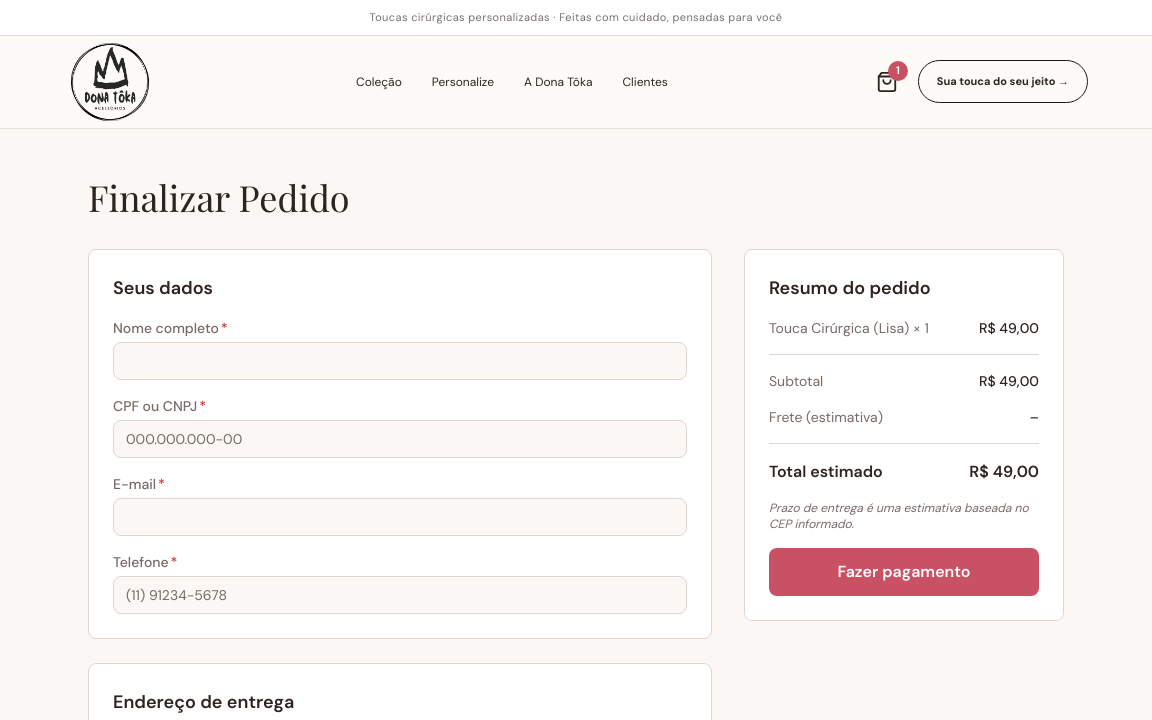
checkout form — validation › shows field errors when form is submitted empty
Expected: the heading "Finalizar Pedido" is shown, [88,172,350,220]
Click the button "Fazer pagamento": (904, 572) [769,548,1039,596]
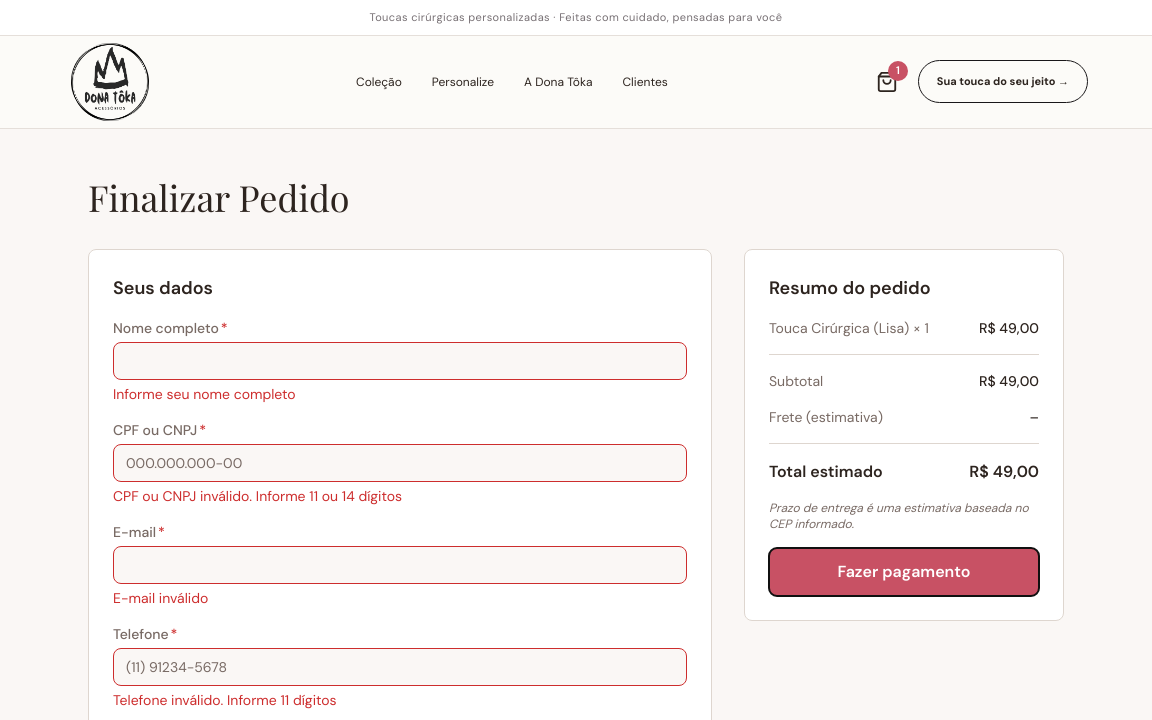
Result: the message "Informe seu nome completo" is shown at [113,384,296,402]
